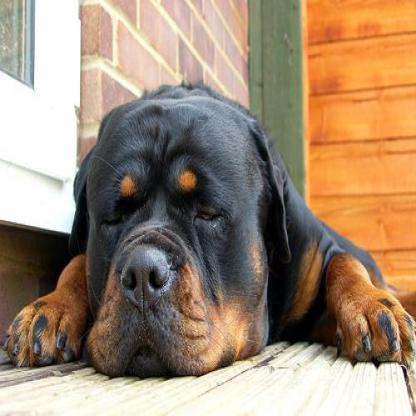Rottweiler: (3, 86, 414, 377)
